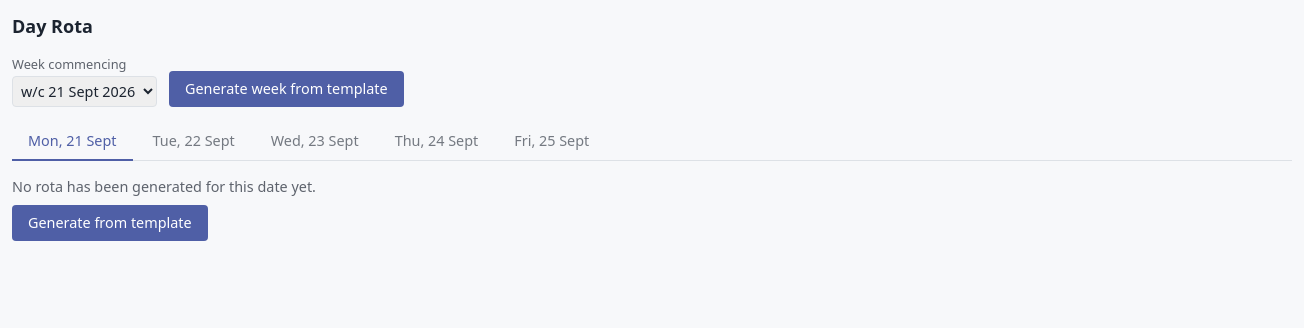
Test: ReceptionDayPage › offers Generate from template for an ungenerated weekday, and generating renders the grid
The image size is (1304, 328).
Click the button "Generate from template": (110, 223) [12, 205, 208, 241]
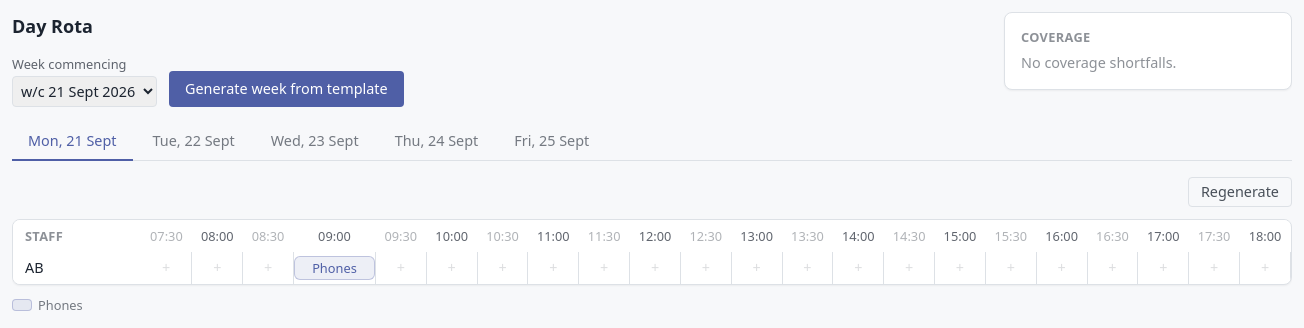
Check: the cell with test id "reception-cell-1-9" is shown, box [294, 252, 376, 284]
